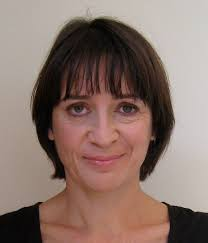white_female: (53, 69, 160, 195)
